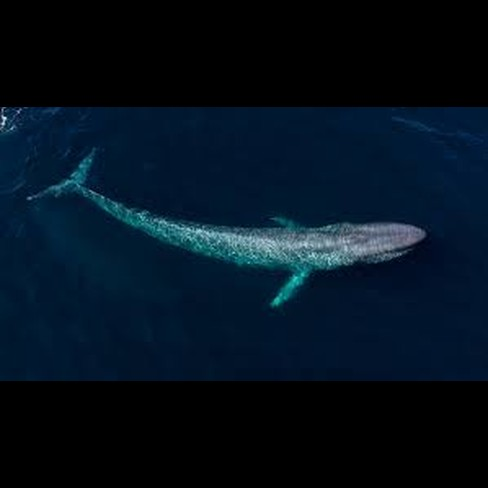bluewhale: (24, 143, 429, 319)
